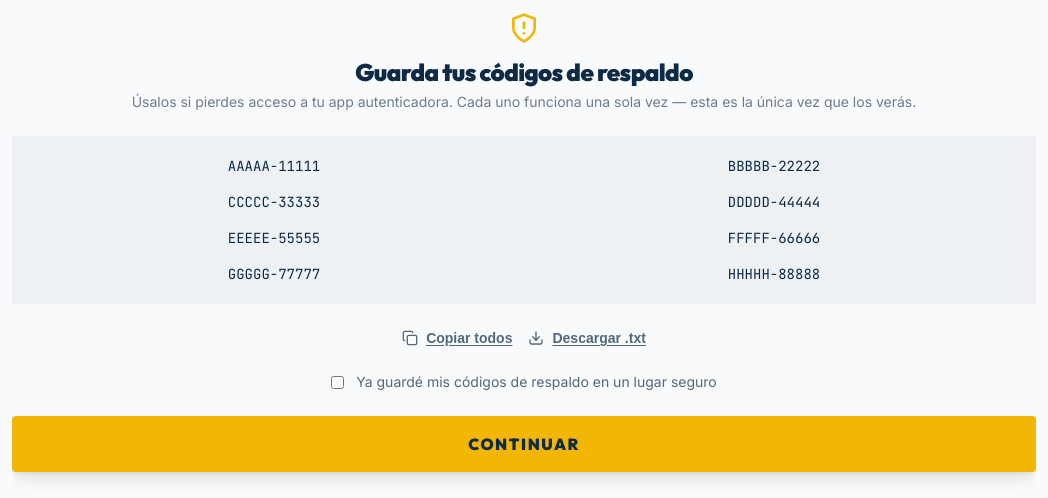
Test case: MfaBackupCodesStep › copiar todos usa el clipboard con los 8 códigos separados por salto de línea
The width and height of the screenshot is (1048, 498).
Step 1. Click the button with test id "mfa-backup-copy" → (457, 338), box [402,328,512,348]
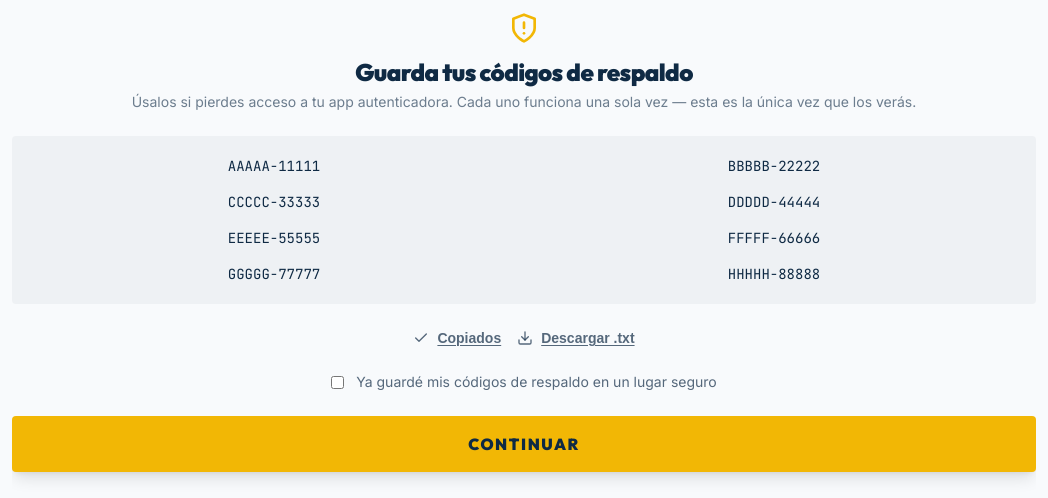
Expected: the button "Copiados" is shown, [413,328,501,348]
